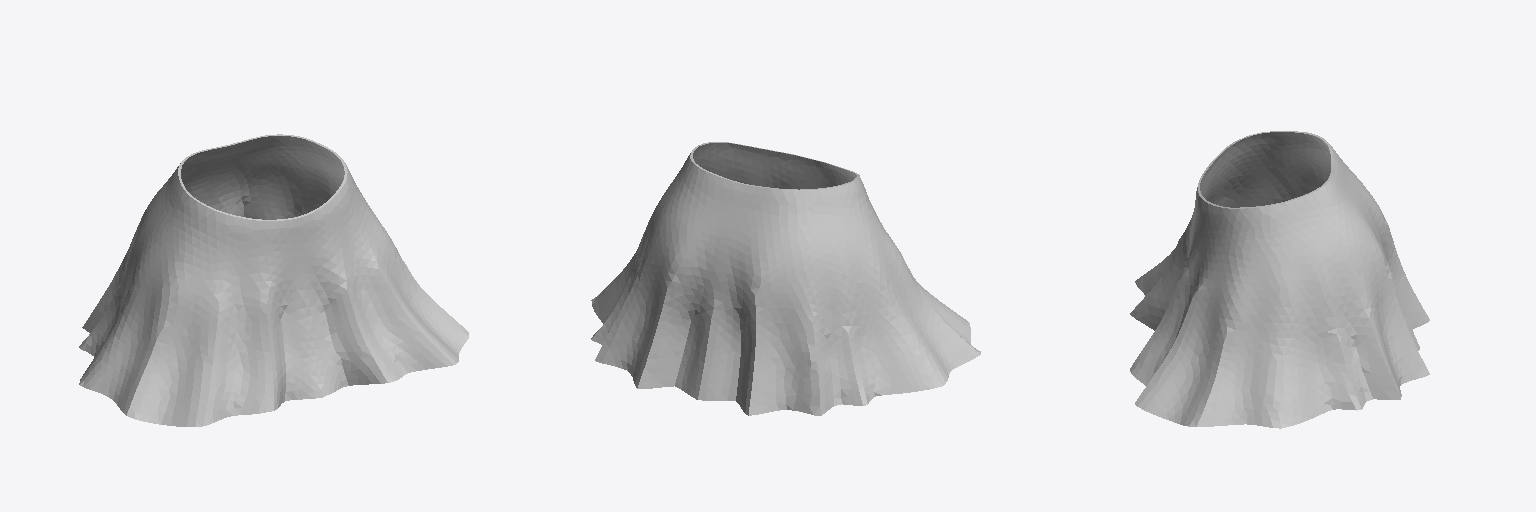
The model's file is skirt4925.obj.
3 views of the same model, side by side, from view 1: azimuth 30°, elevation 25°; view 2: azimuth 150°, elevation 25°; view 3: azimuth 270°, elevation 25° (orthographic).
Bounding box in the file's own units: 0.495 × 0.2519 × 0.3663.